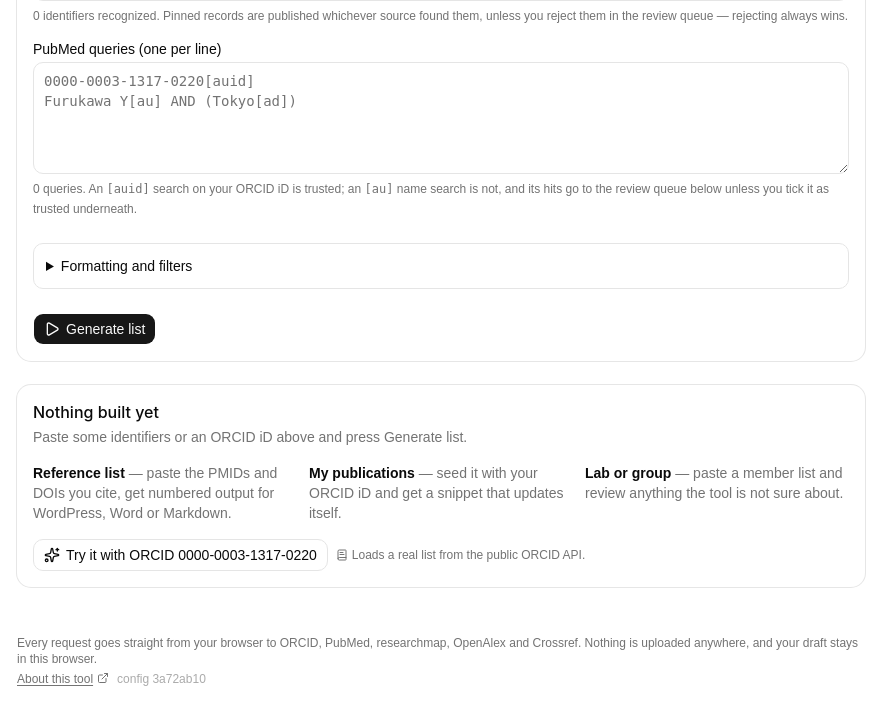
it: removing a publication from the built list › offers a Remove control on every row
(page scrolled)
Click the button "Generate list": (95, 329) [33,313,156,345]
(page scrolled)
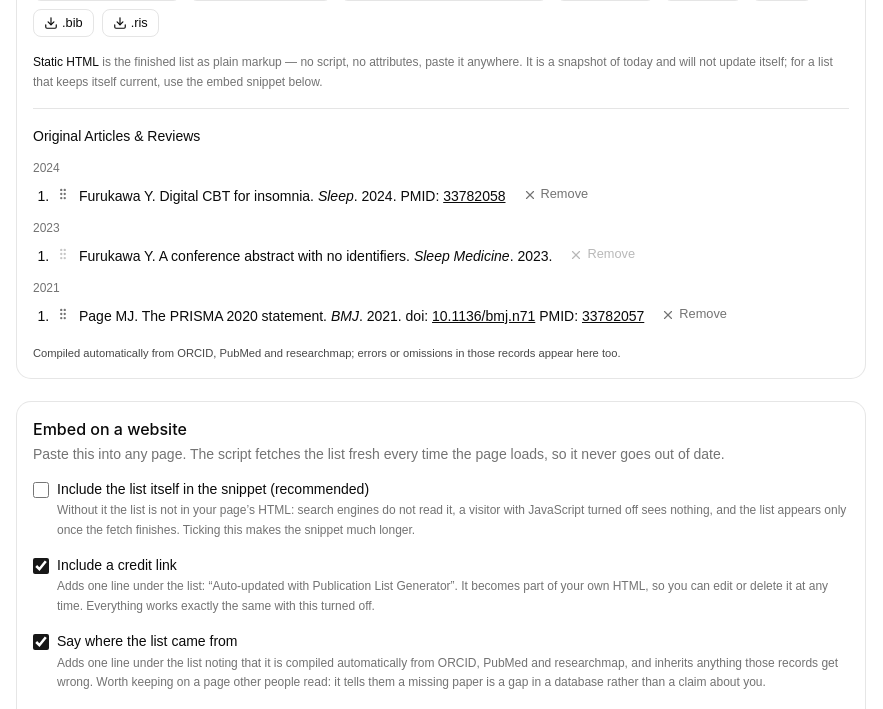
Expected: the number of list items is 3, [53,181,599,209]; [53,241,646,269]; [53,300,849,328]
Expected: the button "Remove" in the row of "Page MJ. The PRISMA 2020 statement." is shown, [650,301,738,329]
